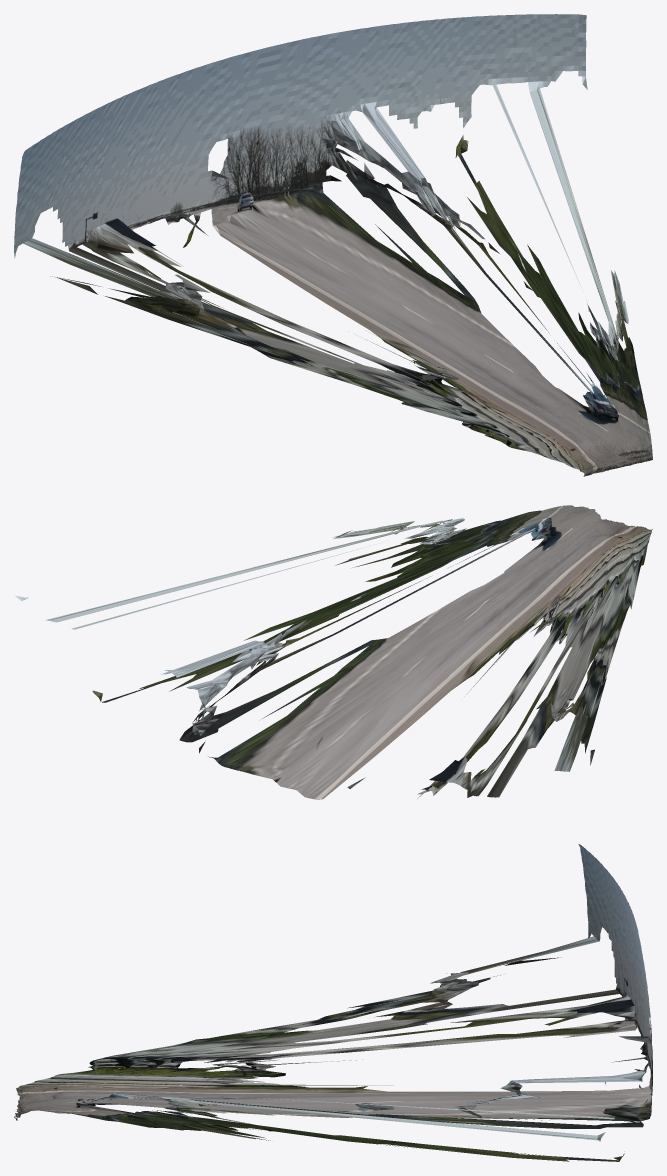
3 views of the same model, one above another, from view 1: azimuth 30°, elevation 25°; view 2: azimuth 150°, elevation 25°; view 3: azimuth 270°, elevation 25° (orthographic). The views are drawn at different scales.
Visible parts, largest first — view 1: defaultobject; view 2: defaultobject; view 3: defaultobject.
Boxes of the visible parts, x1,y1,x2,y2 form: defaultobject: [14, 14, 652, 476]; defaultobject: [15, 505, 652, 799]; defaultobject: [14, 844, 652, 1161].
Size of the model in its own units: 41.05 by 12.44 by 44.44.
Materials: 1 (1 with a texture image).
